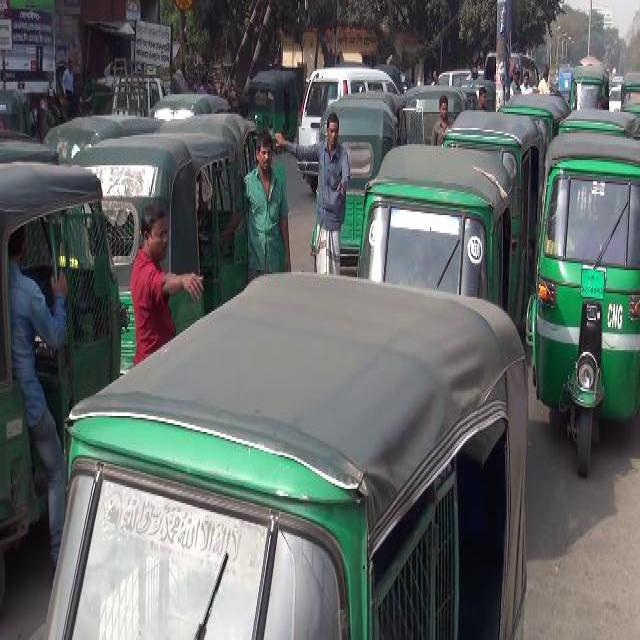11: (104, 68, 164, 124)
13: (53, 54, 79, 120), (170, 65, 210, 99)
17: (44, 268, 532, 638), (1, 159, 125, 573), (530, 128, 638, 480), (71, 130, 245, 346), (358, 146, 516, 330), (443, 104, 539, 291), (156, 115, 272, 268), (316, 92, 402, 271), (39, 112, 164, 169), (246, 66, 296, 154), (404, 77, 466, 147), (554, 102, 640, 147), (150, 90, 230, 130), (504, 84, 566, 134), (0, 127, 60, 172), (568, 60, 610, 114), (1, 89, 32, 139), (459, 74, 495, 108), (616, 68, 638, 110)
19: (295, 54, 403, 164), (483, 47, 543, 95), (427, 64, 483, 92)
5: (608, 79, 622, 113)
Truck: (556, 60, 572, 90)
